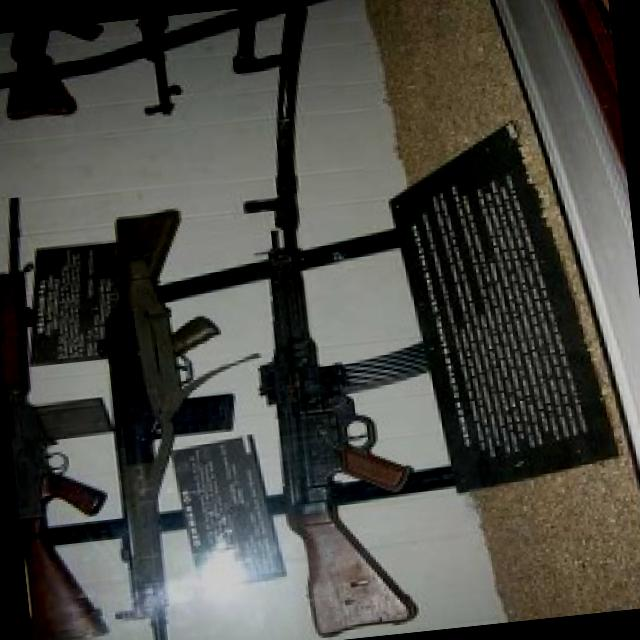long weapon: (229, 202, 456, 639), (72, 193, 242, 639)
